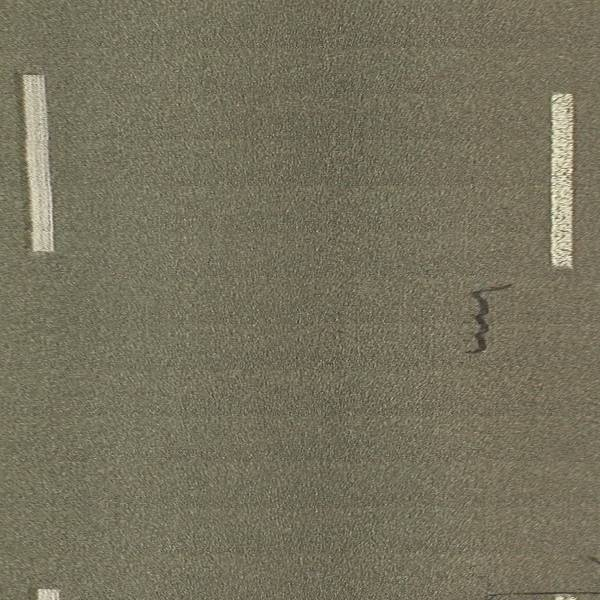road_damage: (465, 281, 515, 356)
